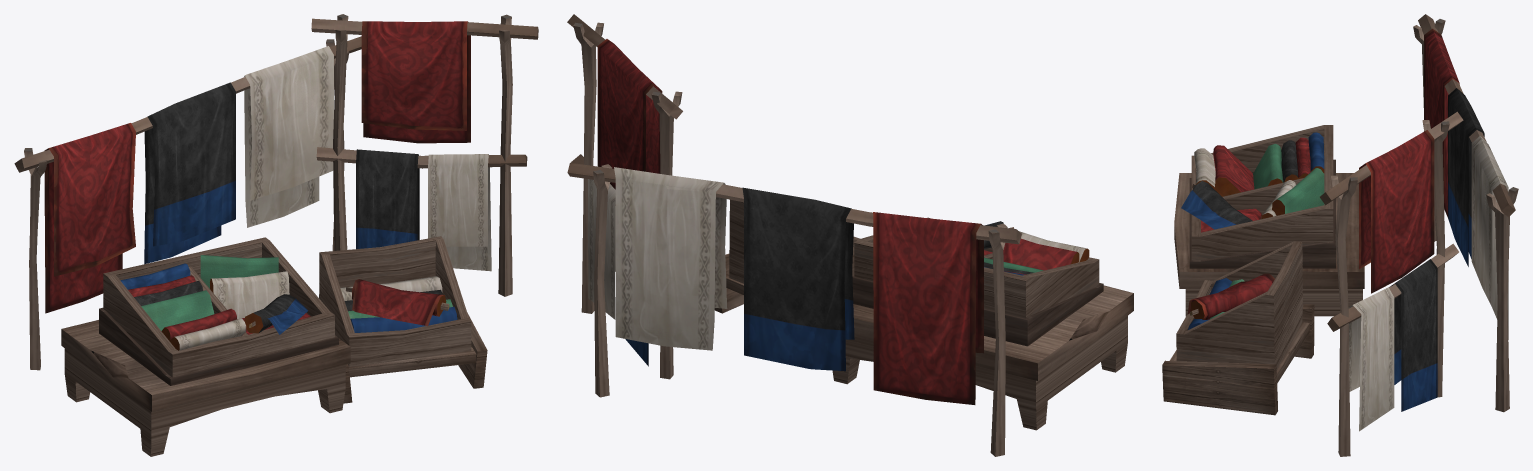
The model's file is handan_field_a_s01c.fbx.
The picture shows the model from 3 angles, left to right: view 1: azimuth 30°, elevation 25°; view 2: azimuth 150°, elevation 25°; view 3: azimuth 270°, elevation 25°; orthographic projection. The views are drawn at different scales.
Visible parts, largest first — view 1: handan_field_a_s01c; view 2: handan_field_a_s01c; view 3: handan_field_a_s01c.
Part boxes in pixels (x1,y1,x2,y2): handan_field_a_s01c: (14,14,538,456); handan_field_a_s01c: (567,14,1133,456); handan_field_a_s01c: (1162,14,1518,456).
Size of the model in its own units: 583 by 324 by 372.
